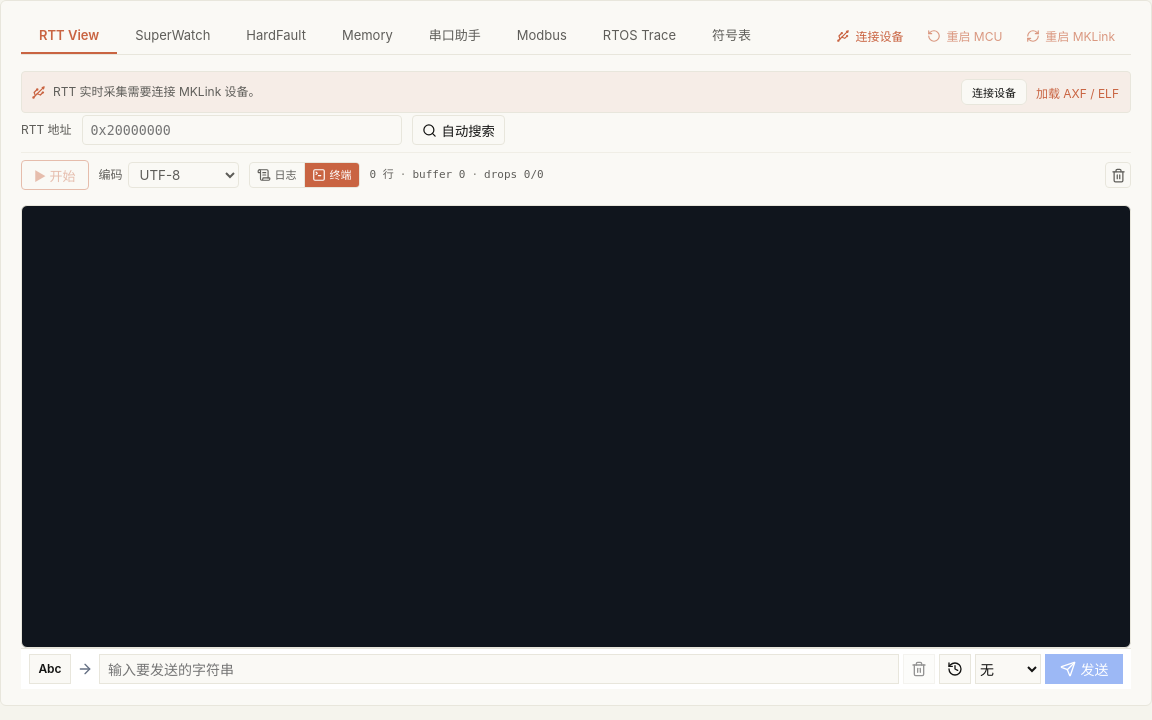
DashboardView layout classes › dismisses the current connection error and shows a later failure again
This screenshot has width=1152, height=720.
Click the 1st button with test id "device-quick-action" at x=870, y=36, box [828,20,911,50]
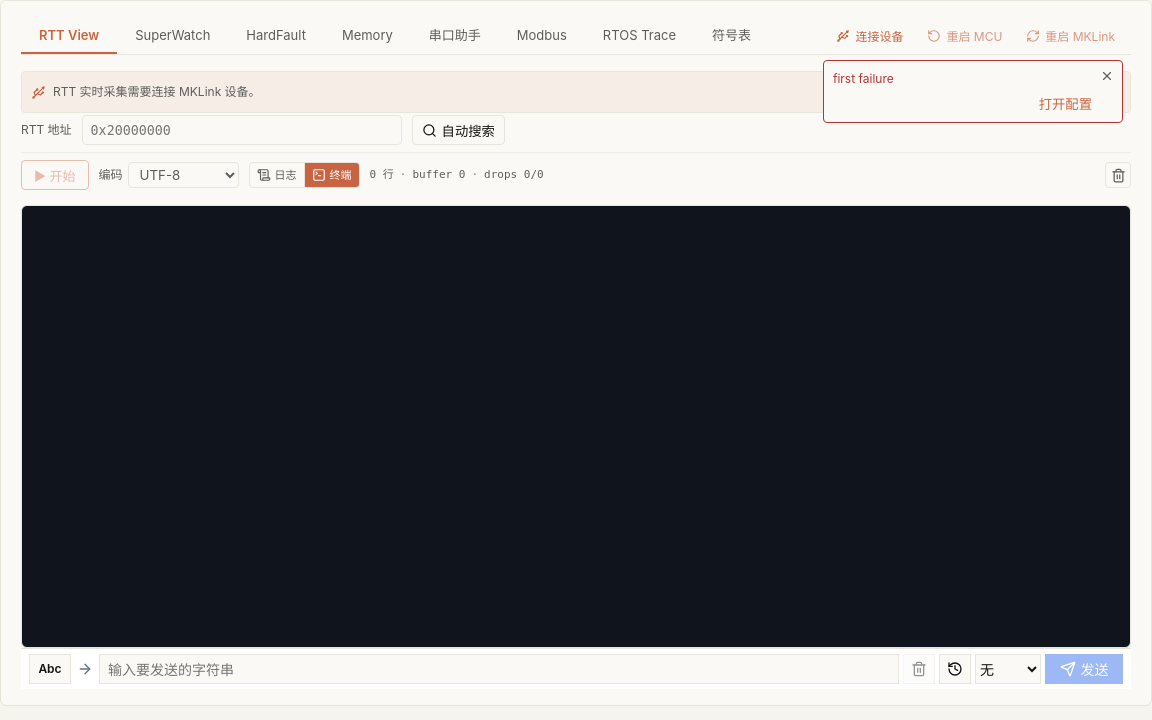
Check: the message with class "device-quick-error" shows "first failure", box [833,71,894,86]
Click the button with test id "dismiss-connection-error" at x=1107, y=76, box [1097,66,1117,86]
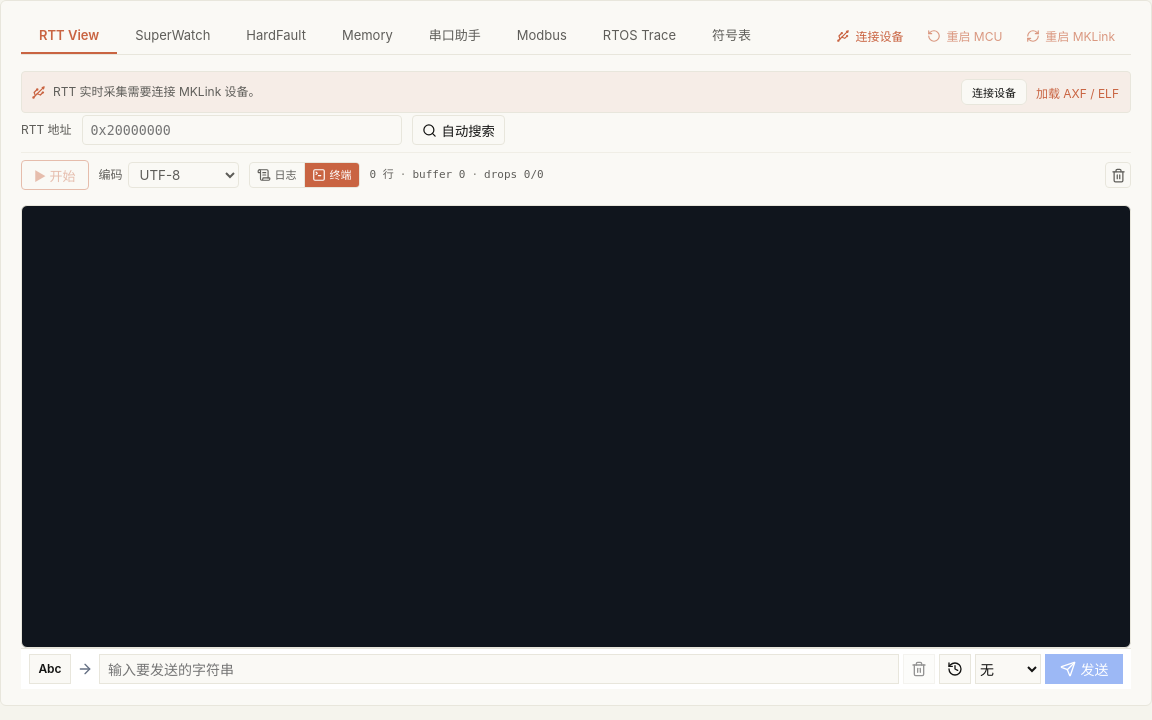
Click the 1st button with test id "device-quick-action" at x=870, y=36, box [828,20,911,50]
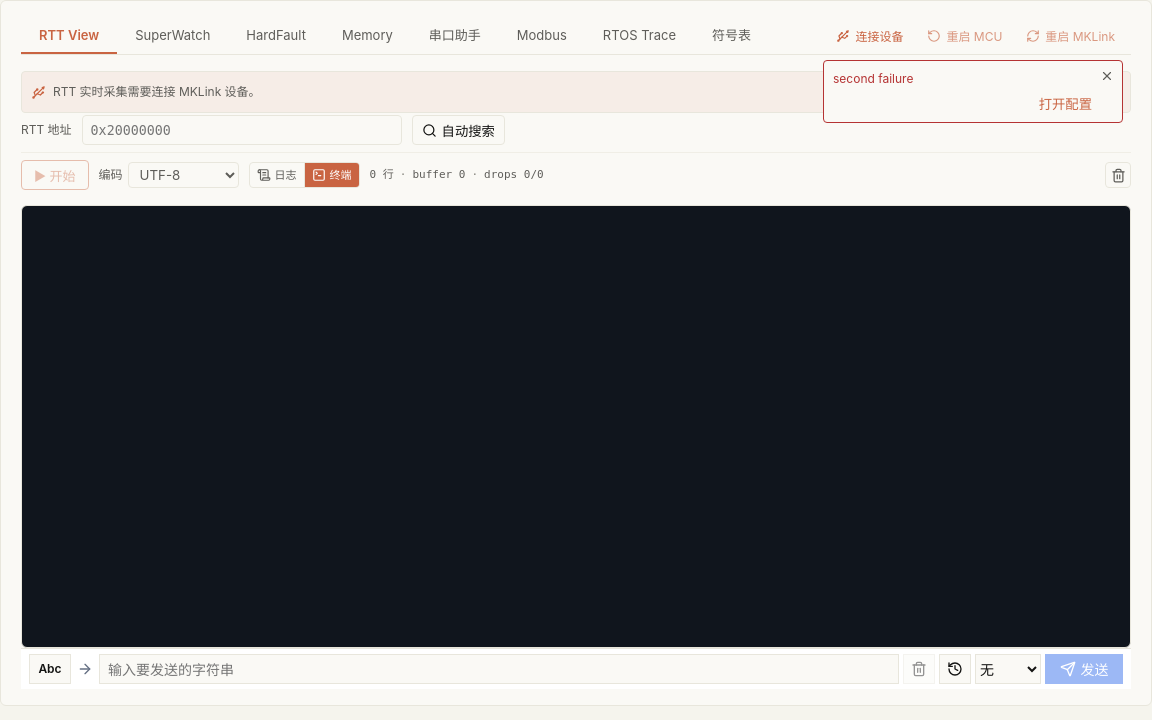
Check: the message with class "device-quick-error" shows "second failure", box [833,71,913,86]
